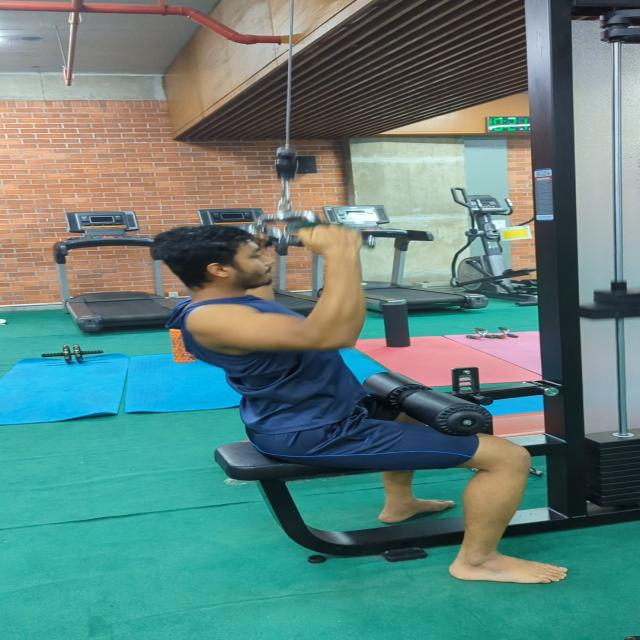Normal_LatPulldown: (115, 212, 596, 590)
